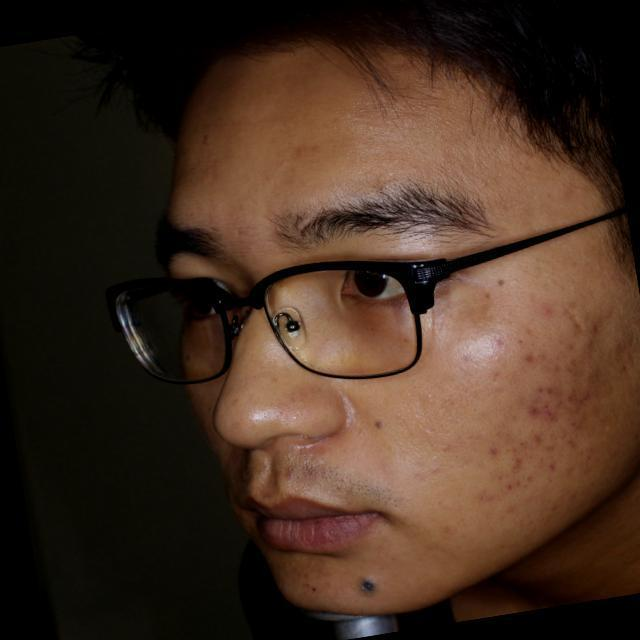acne: (575, 317, 613, 356), (534, 375, 573, 409), (509, 399, 553, 428), (579, 367, 613, 390), (528, 295, 557, 320), (514, 346, 542, 371), (528, 434, 563, 453), (483, 436, 507, 462)
